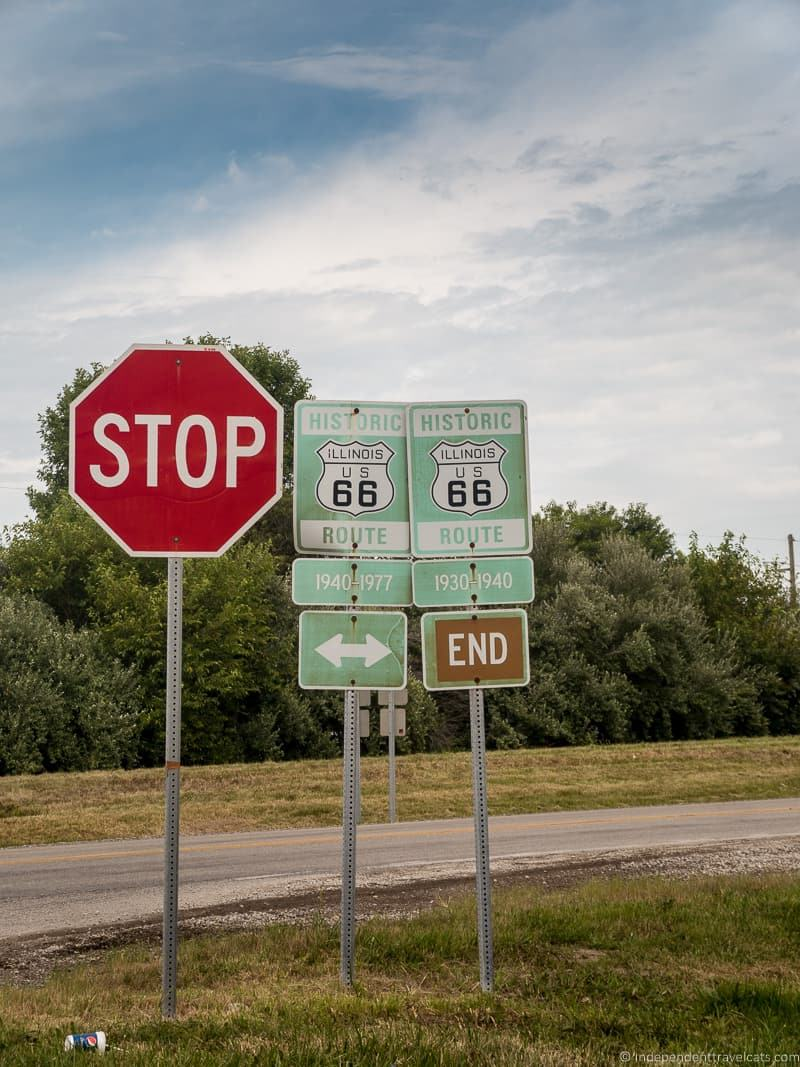stop: (63, 345, 286, 560), (59, 346, 285, 520), (63, 346, 252, 554), (62, 402, 291, 561), (63, 346, 204, 560)
